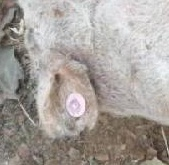text: (59, 88, 96, 124)
